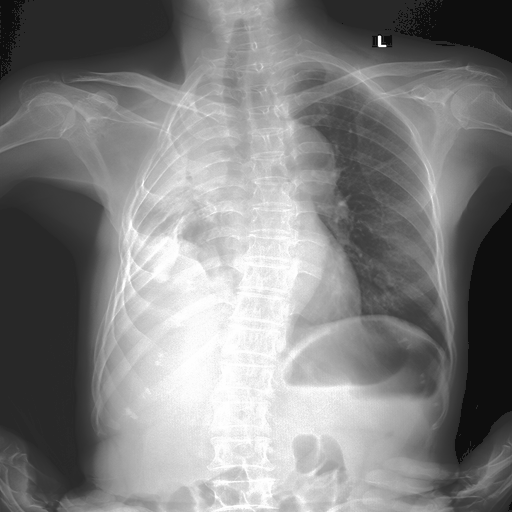Calcification: (141, 78, 224, 191)
Consolidation: (273, 121, 334, 195)
Infiltration: (111, 78, 235, 351)
Other lesion: (133, 199, 220, 251)
Pleural effusion: (112, 80, 272, 361), (123, 235, 219, 319)
Pleural thickening: (112, 80, 272, 361), (129, 188, 232, 247)
